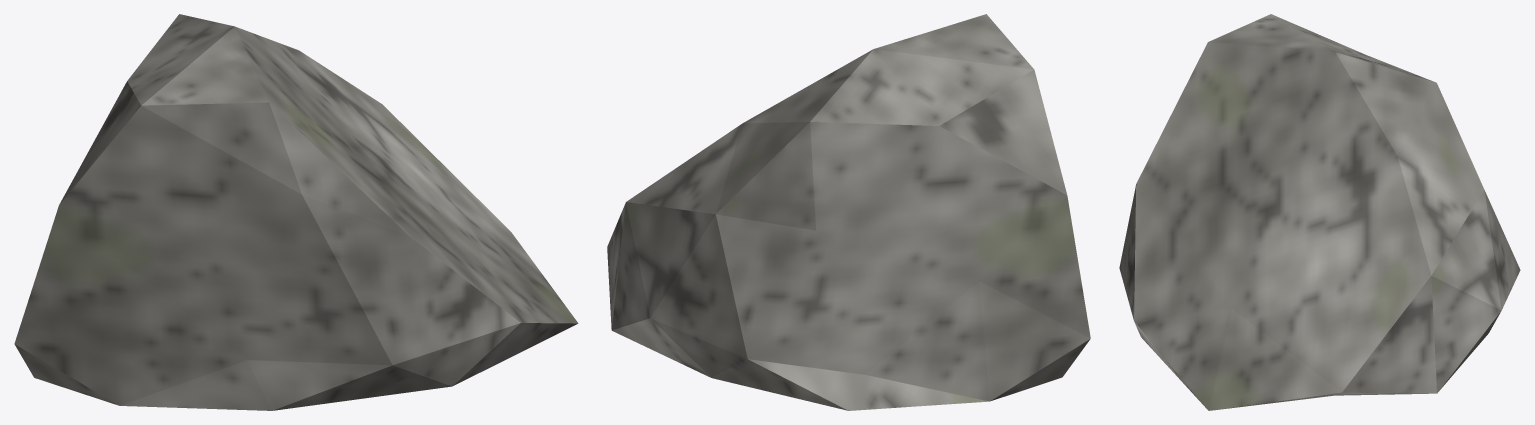
The model's file is kamen_maly.glb.
3 renders of one model, left to right at view 1: azimuth 30°, elevation 25°; view 2: azimuth 150°, elevation 25°; view 3: azimuth 270°, elevation 25°, orthographic. The views are drawn at different scales.
Visible parts, largest first — view 1: kamen; view 2: kamen; view 3: kamen.
Boxes of the visible parts, x1,y1,x2,y2 form: kamen: (14,14,578,410); kamen: (607,14,1090,410); kamen: (1119,14,1520,410).
Bounding box in the file's own units: 1.2 × 0.7 × 1.
Materials: 1 (1 with a texture image).
